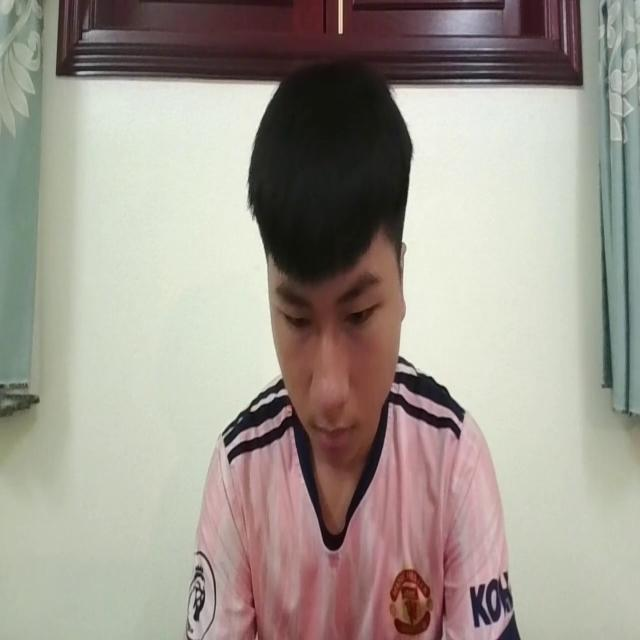student: (191, 66, 514, 640)
